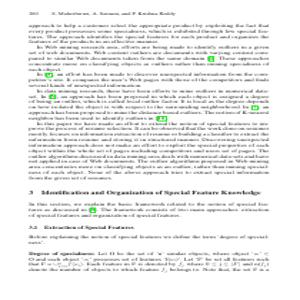text: (17, 25, 269, 286)
